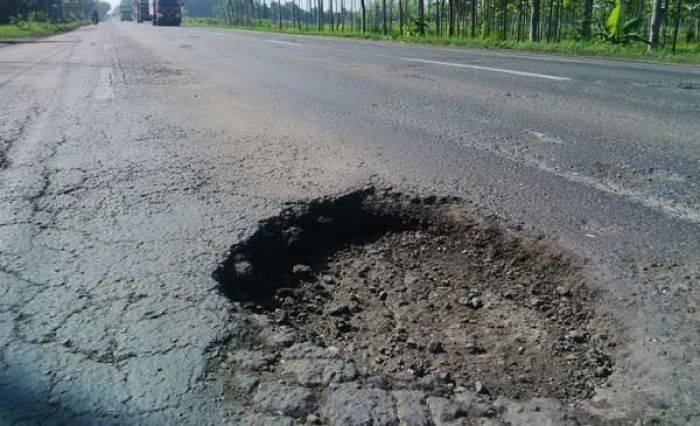Pothole: (207, 186, 616, 424)
